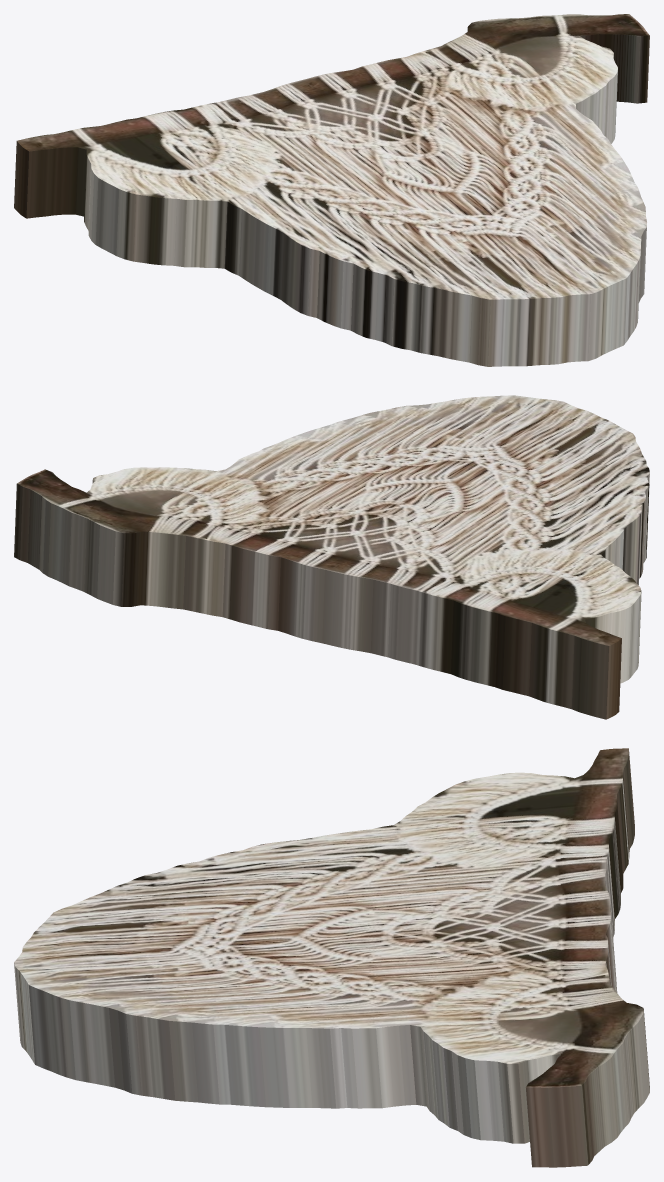
The picture shows the model from 3 angles, top to bottom: view 1: azimuth 30°, elevation 25°; view 2: azimuth 150°, elevation 25°; view 3: azimuth 270°, elevation 25°; orthographic projection. The views are drawn at different scales.
Size of the model in its own units: 1 by 0.1676 by 0.8023.
Materials: 1 (1 with a texture image).
